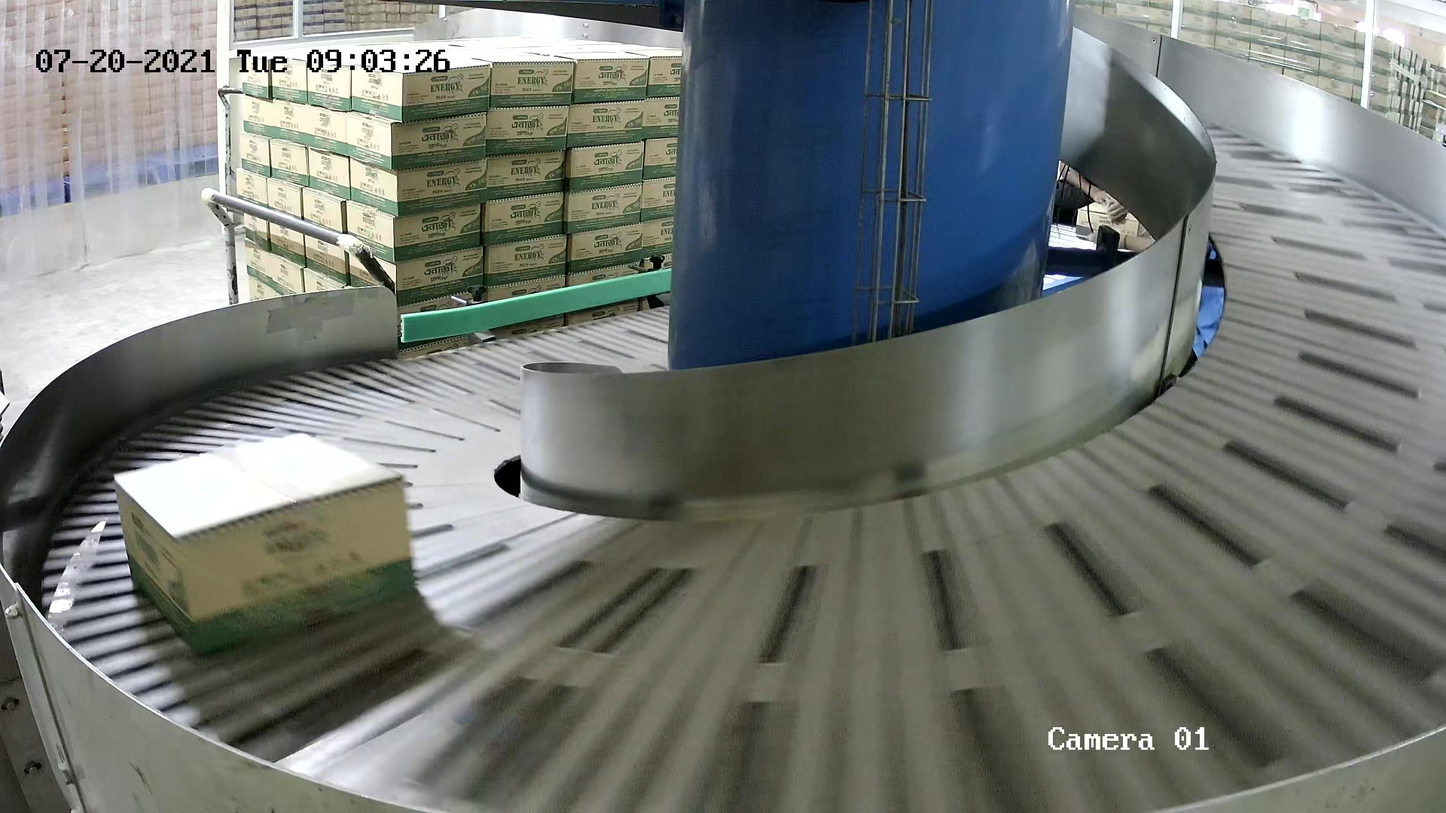Box: (112, 432, 417, 657)
